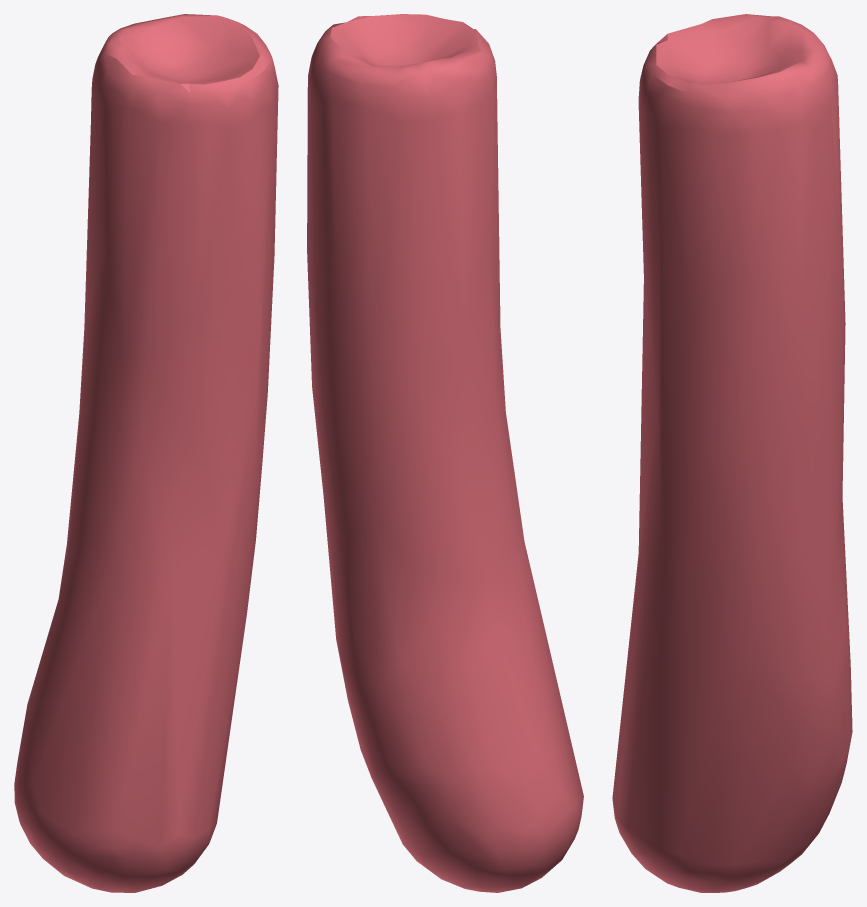
Rendered from fma4762.glb.
The picture shows the model from 3 angles, left to right: view 1: azimuth 30°, elevation 25°; view 2: azimuth 150°, elevation 25°; view 3: azimuth 270°, elevation 25°; orthographic projection. The views are drawn at different scales.
Parts seen in each view (by area): view 1: FMA4762; view 2: FMA4762; view 3: FMA4762.
Boxes of the visible parts, bbox=[...] form: FMA4762: bbox=[14, 14, 278, 892]; FMA4762: bbox=[307, 14, 583, 892]; FMA4762: bbox=[612, 14, 852, 892].
Bounding box in the file's own units: 0.0132 × 0.0433 × 0.0107.
